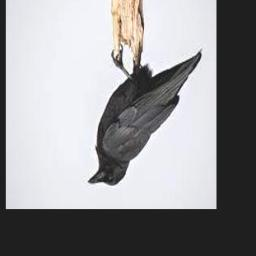Crow: (86, 49, 201, 187)
